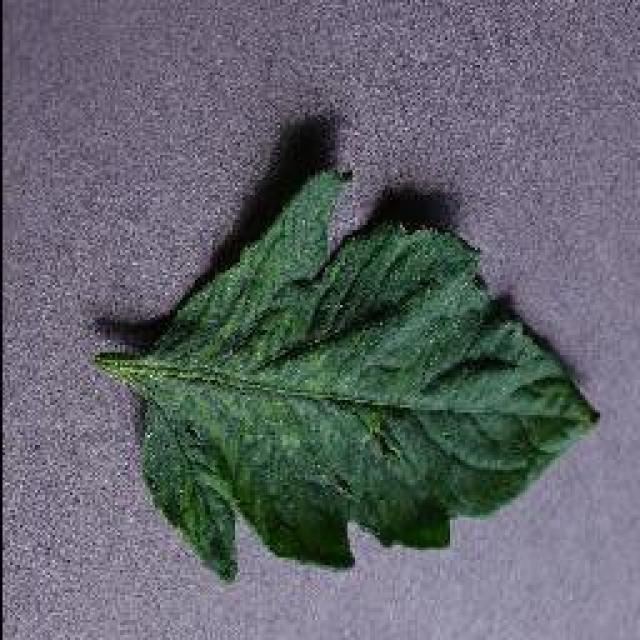Tomato___Tomato_mosaic_virus: (95, 172, 598, 578)
